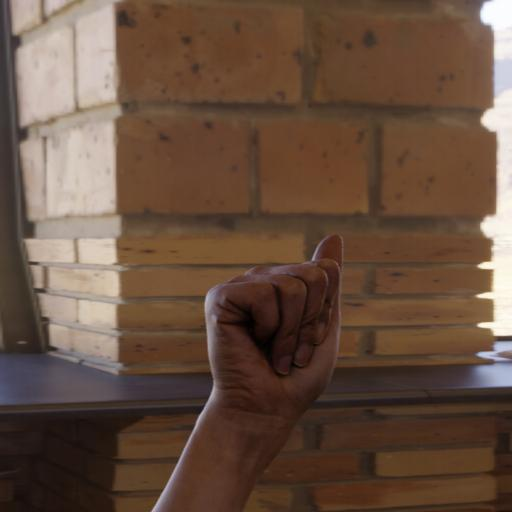A: (198, 228, 353, 418)
